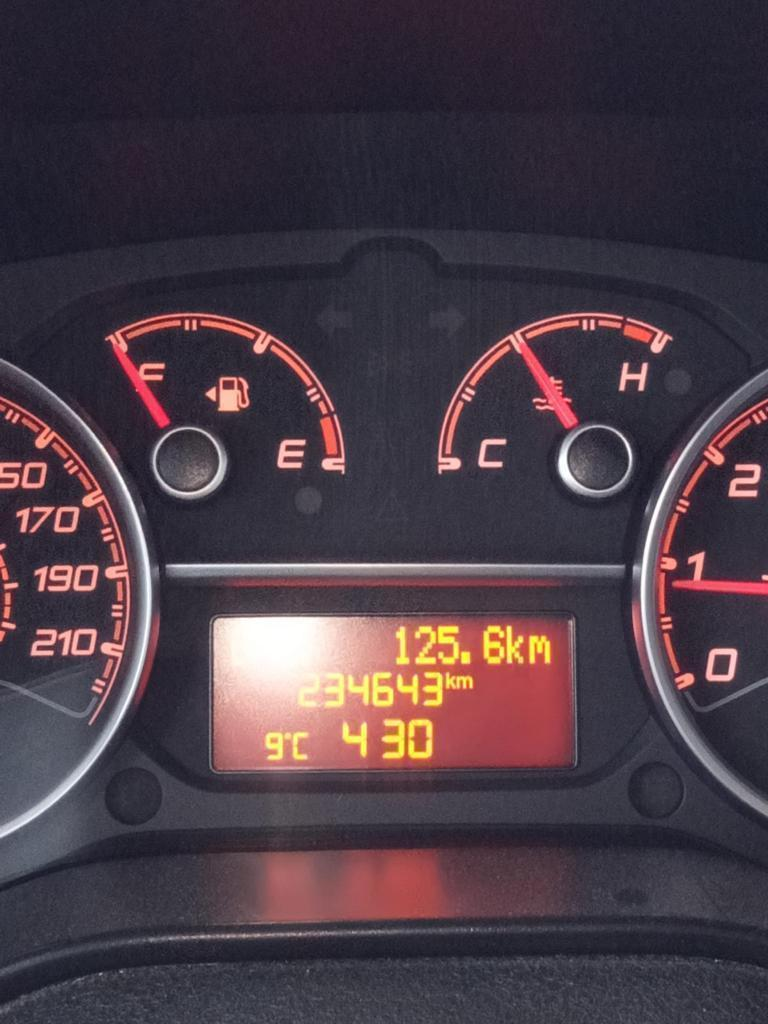,: (459, 649, 472, 666)
0: (407, 716, 434, 760)
1: (392, 622, 412, 667)
2: (413, 624, 436, 666), (298, 671, 319, 708)
3: (380, 715, 405, 761), (422, 670, 443, 707), (322, 672, 344, 707)
4: (342, 719, 367, 758), (395, 672, 419, 705), (349, 672, 368, 706)
5: (436, 622, 459, 667)
6: (480, 621, 504, 666), (372, 670, 394, 706)
9: (265, 731, 282, 760)
X: (505, 623, 524, 665), (528, 633, 551, 665), (292, 726, 310, 762), (456, 674, 473, 689), (445, 670, 456, 690)
odometer: (203, 605, 585, 785)
